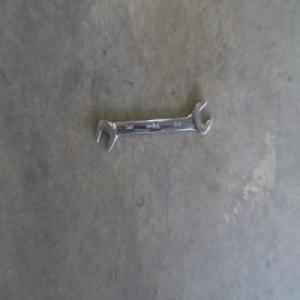Wrench: (95, 99, 212, 153)
